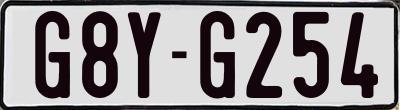2: (244, 10, 286, 96)
4: (339, 11, 376, 102)
5: (293, 11, 334, 99)
8: (79, 11, 120, 98)
G: (199, 11, 235, 101), (35, 8, 70, 99)
Y: (126, 9, 162, 101)
